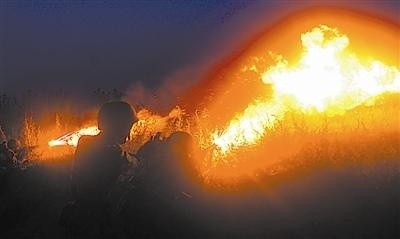fire: (234, 27, 400, 115), (47, 123, 100, 147)
